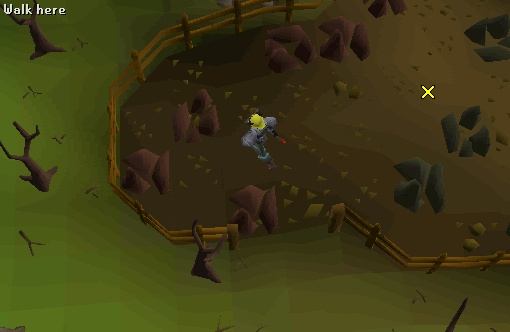coal: (379, 148, 466, 228), (420, 86, 507, 166)
iron: (161, 80, 236, 153), (218, 170, 293, 243), (106, 135, 181, 208)
